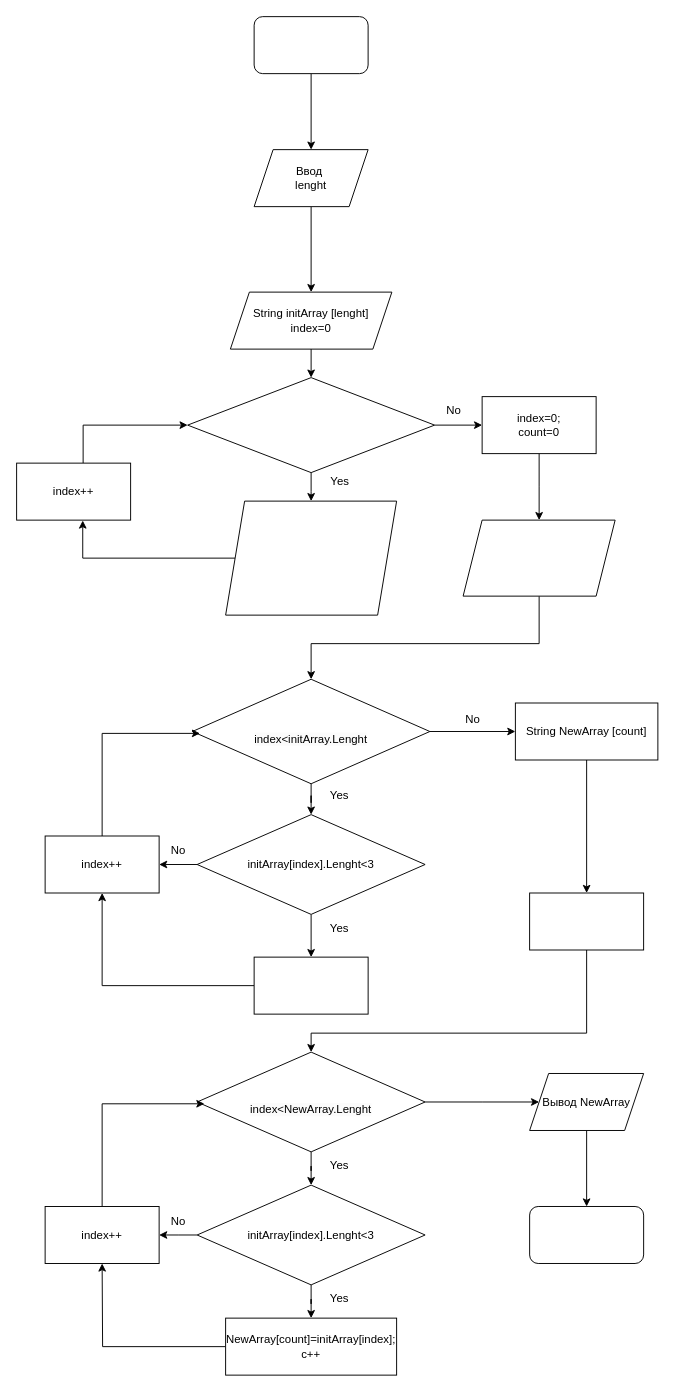
Image size: 675x1392. Some labels were removed from this diagram. The centre of each missing label's shape, as x and y in pixels:
"count++" goes at pixel 310 985.
"end" goes at pixel 586 1235.
"index<initArray. Lenght" goes at pixel 311 425.
"index=0; c=0" goes at pixel 586 921.
"Start" goes at pixel 310 45.
"Ввод с клавиатуры initArray [index]" goes at pixel 311 557.
"вывод initArray" goes at pixel 538 557.
